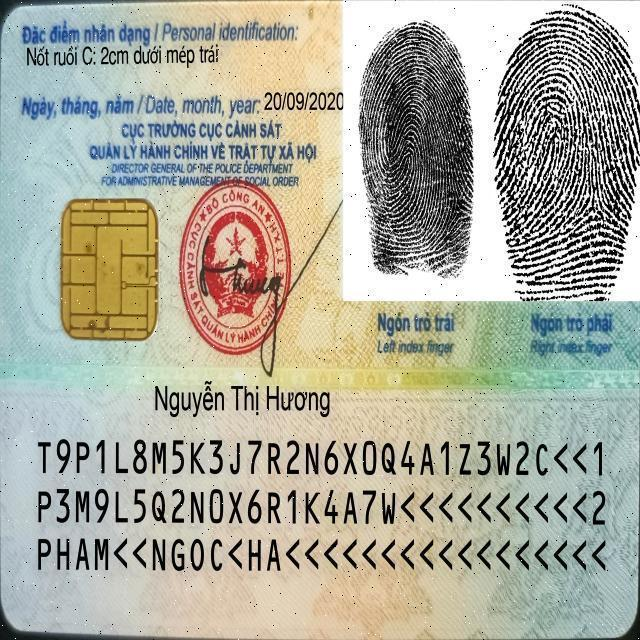features: (23, 35, 229, 70)
finger_print: (341, 0, 490, 358), (491, 4, 640, 358)
issue_date: (263, 86, 344, 113)
